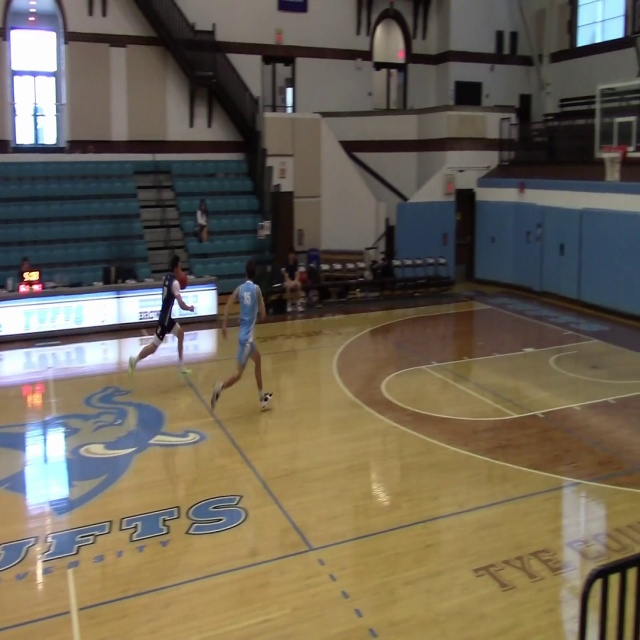Basketball: (284, 280, 301, 299), (176, 271, 187, 289), (298, 272, 308, 283)
